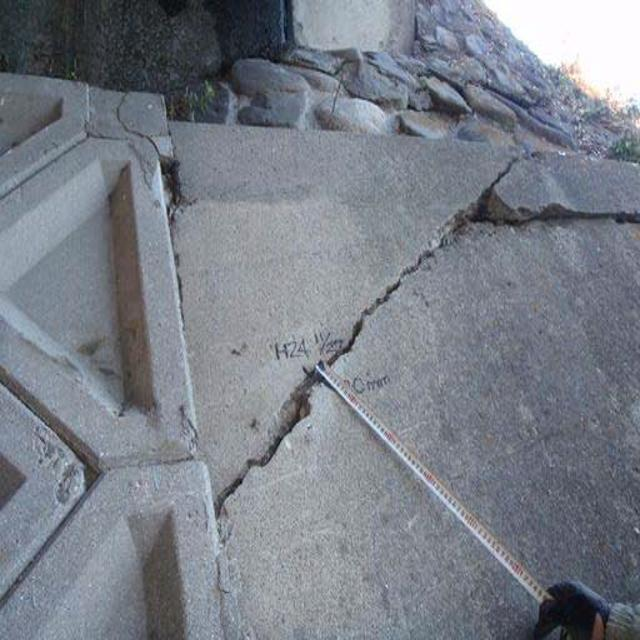crack: (206, 119, 597, 528)
